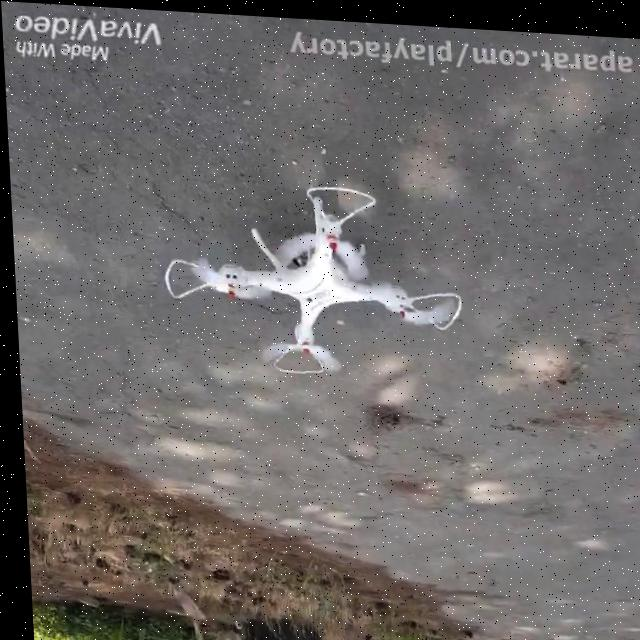drone: (153, 169, 464, 380)
